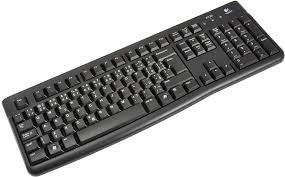keyboard: (3, 0, 285, 176)
